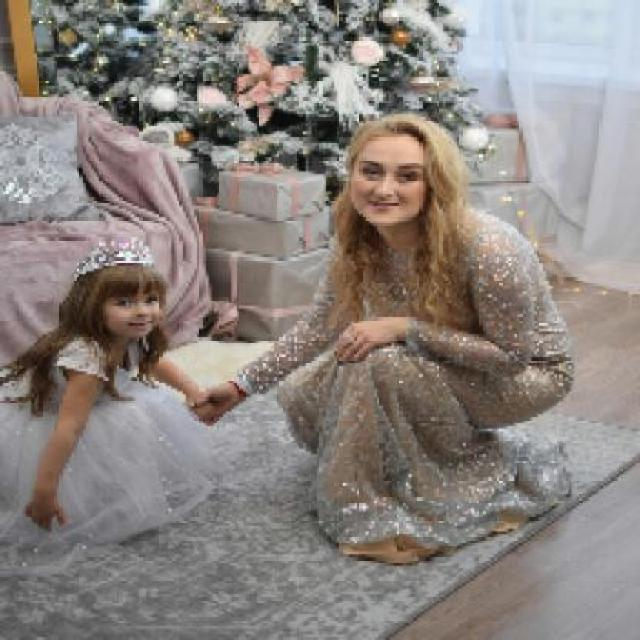child: (2, 237, 218, 563)
